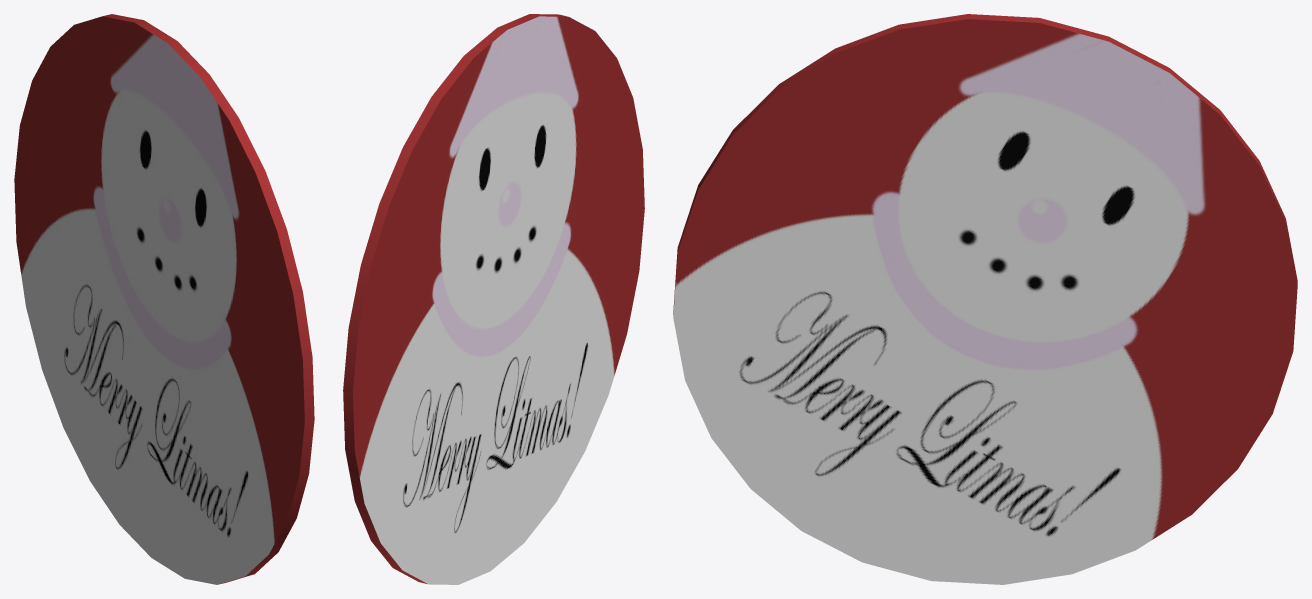
Rendered from Magnet_Naughty_3.FBX.
The picture shows the model from 3 angles, left to right: view 1: azimuth 30°, elevation 25°; view 2: azimuth 150°, elevation 25°; view 3: azimuth 270°, elevation 25°; orthographic projection. The views are drawn at different scales.
Parts seen in each view (by area): view 1: Magnet; view 2: Magnet; view 3: Magnet.
Boxes of the visible parts, bbox=[...] form: Magnet: bbox=[14, 14, 314, 584]; Magnet: bbox=[343, 14, 644, 584]; Magnet: bbox=[673, 14, 1297, 584].
Size of the model in its own units: 0.2082 by 10.78 by 10.78.
